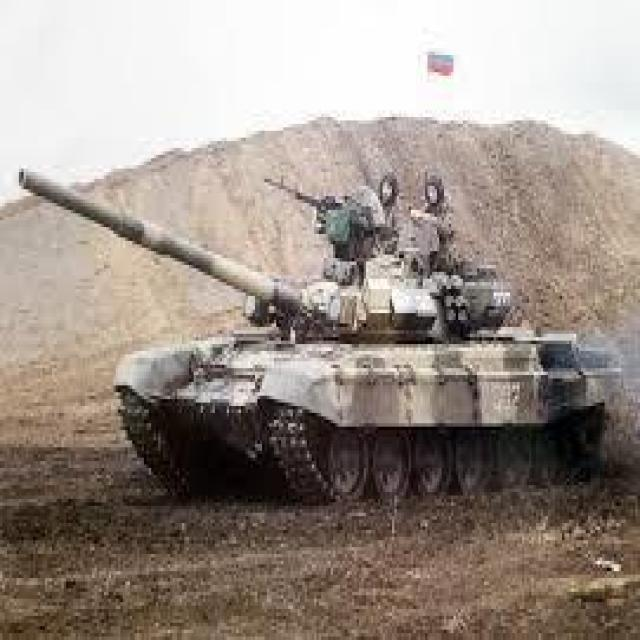MIL_MBT: (19, 160, 616, 508)
